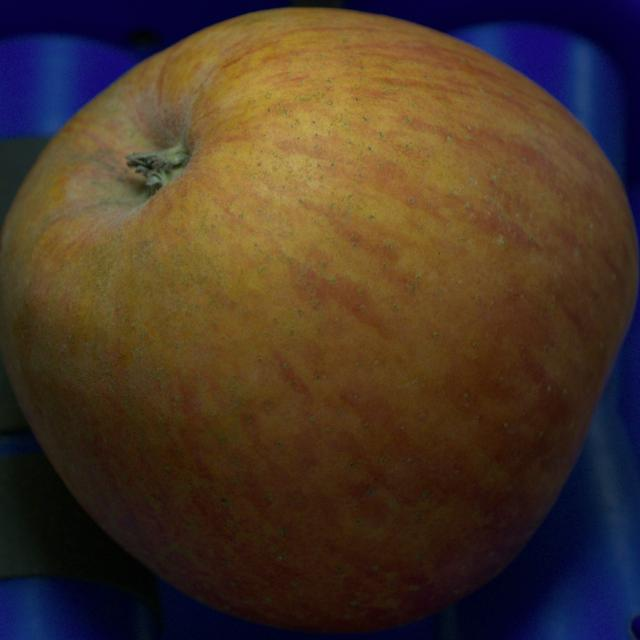apple: (0, 8, 638, 632)
